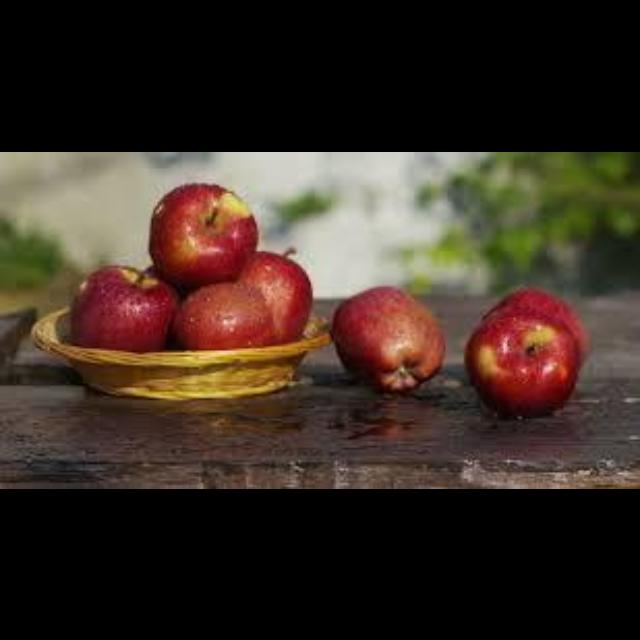apple: (331, 286, 443, 391), (464, 313, 578, 416), (149, 182, 257, 288), (68, 265, 178, 350), (483, 288, 586, 360), (236, 248, 311, 342), (172, 281, 275, 348)
